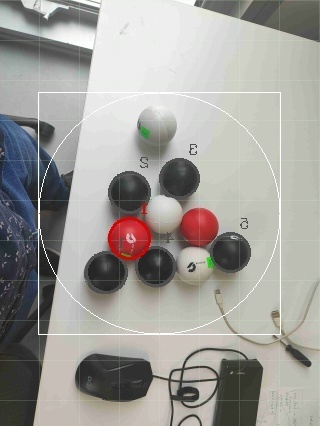Pelota blanca: (167, 345, 220, 408), (239, 0, 320, 41), (135, 103, 177, 147), (175, 244, 217, 286), (146, 193, 185, 235), (177, 411, 204, 425)
Pelota negra: (74, 353, 156, 403), (82, 249, 129, 294), (109, 169, 153, 214), (159, 156, 201, 198), (135, 246, 177, 288), (210, 230, 252, 272)
Pelota roja: (106, 214, 153, 262), (178, 206, 220, 248)
